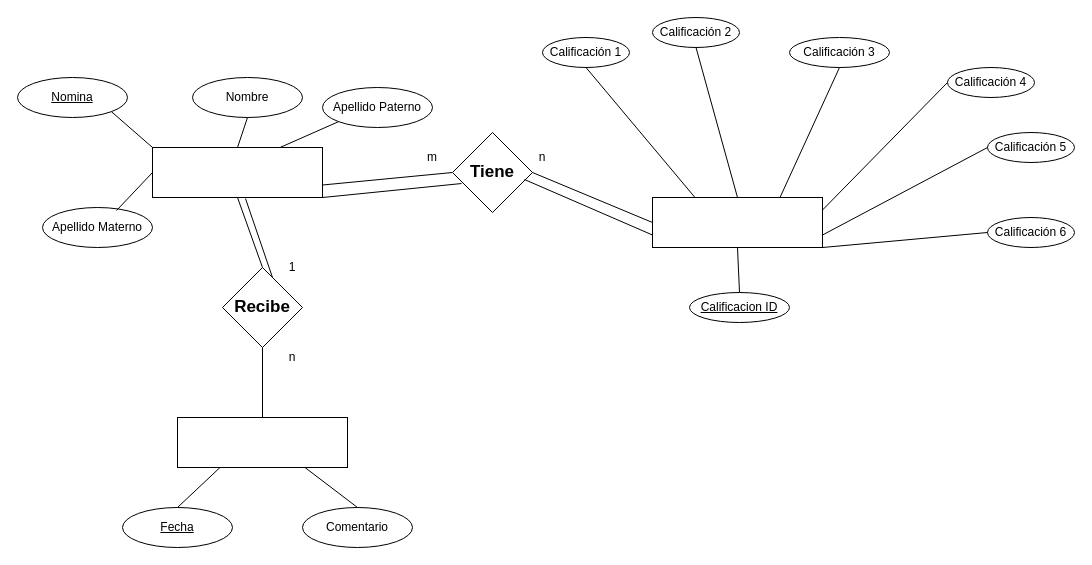
The diagram is 1092 pixels wide and 565 high, and some of its shapes have lost their labels. The shapes that lost their labels are listed below. From the top down, each one's centre as x and y in pixels, then its label:
At (x=237, y=172): "Profesor".
At (x=737, y=222): "Calificación".
At (x=262, y=442): "Comentarios".
